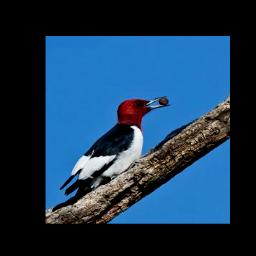Woodpecker: (58, 93, 172, 199)
